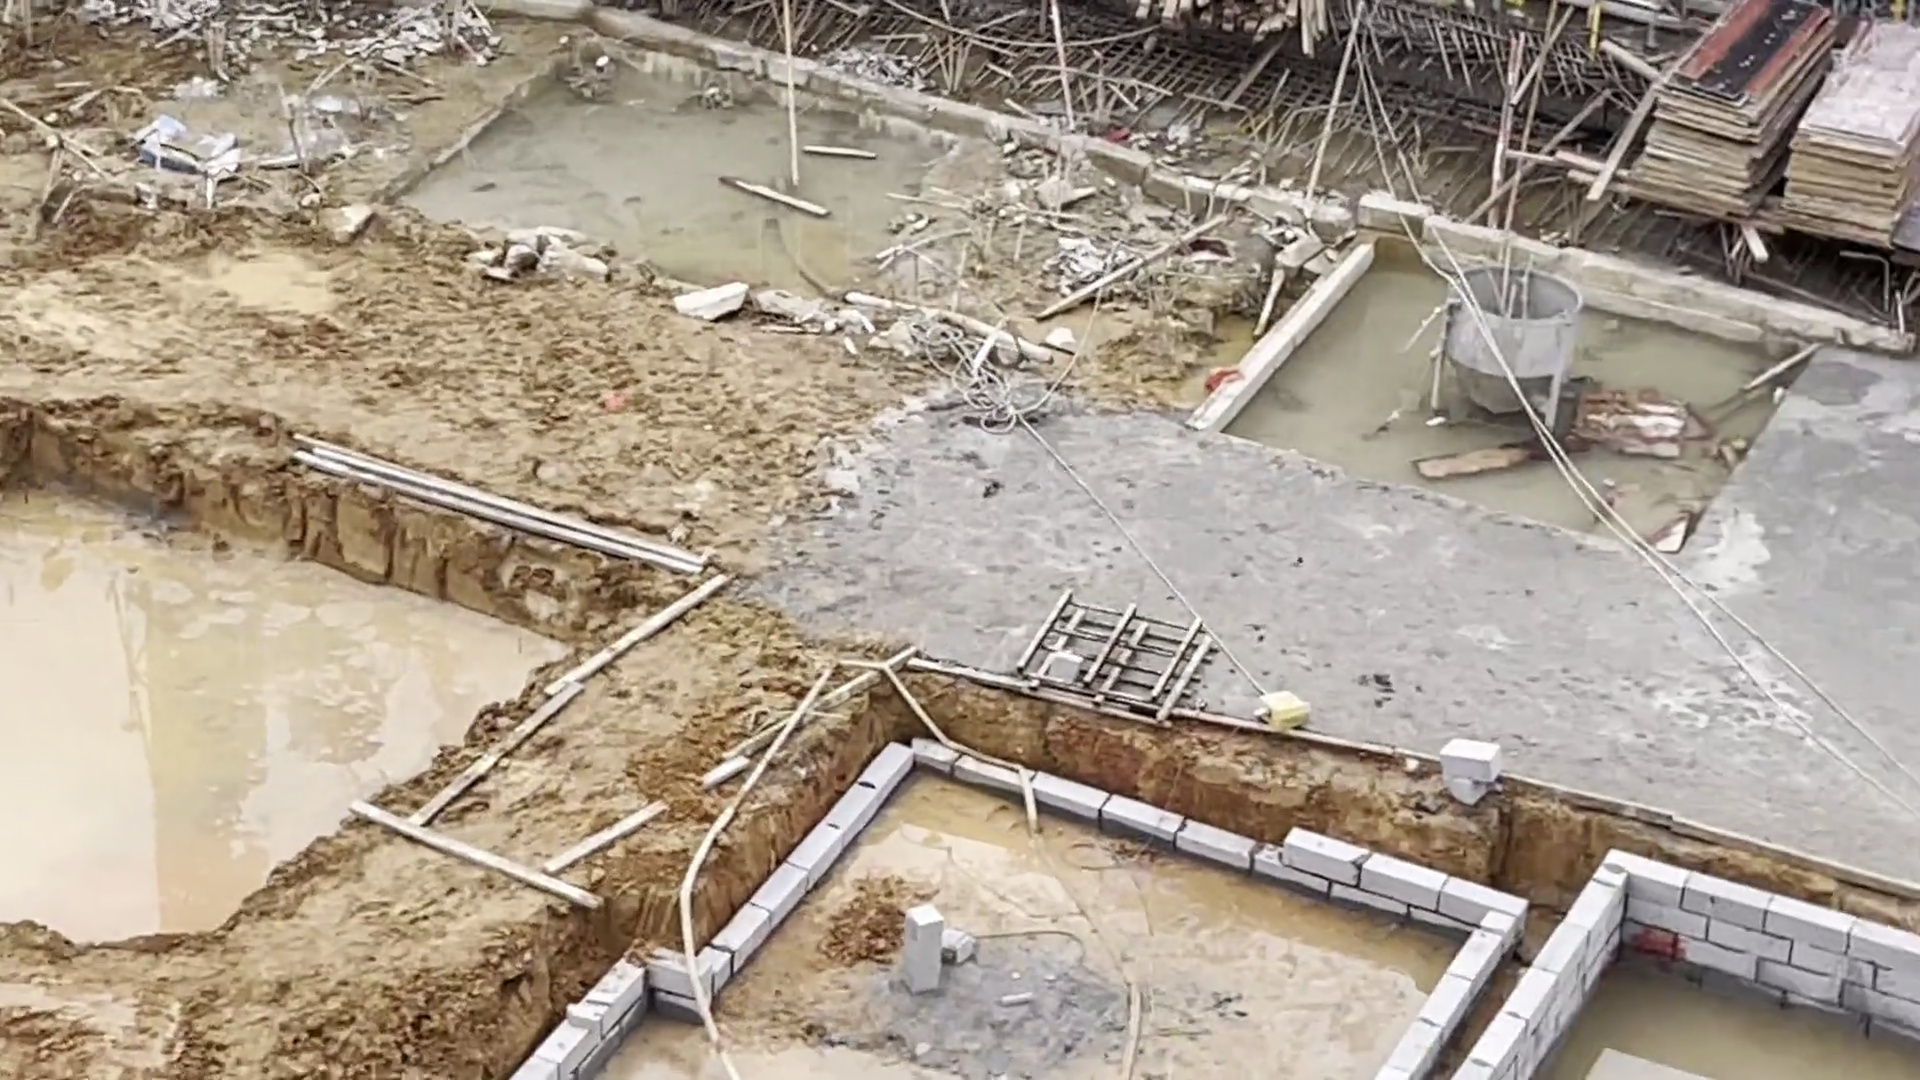board: (1622, 1, 1833, 206), (1782, 24, 1920, 247)
